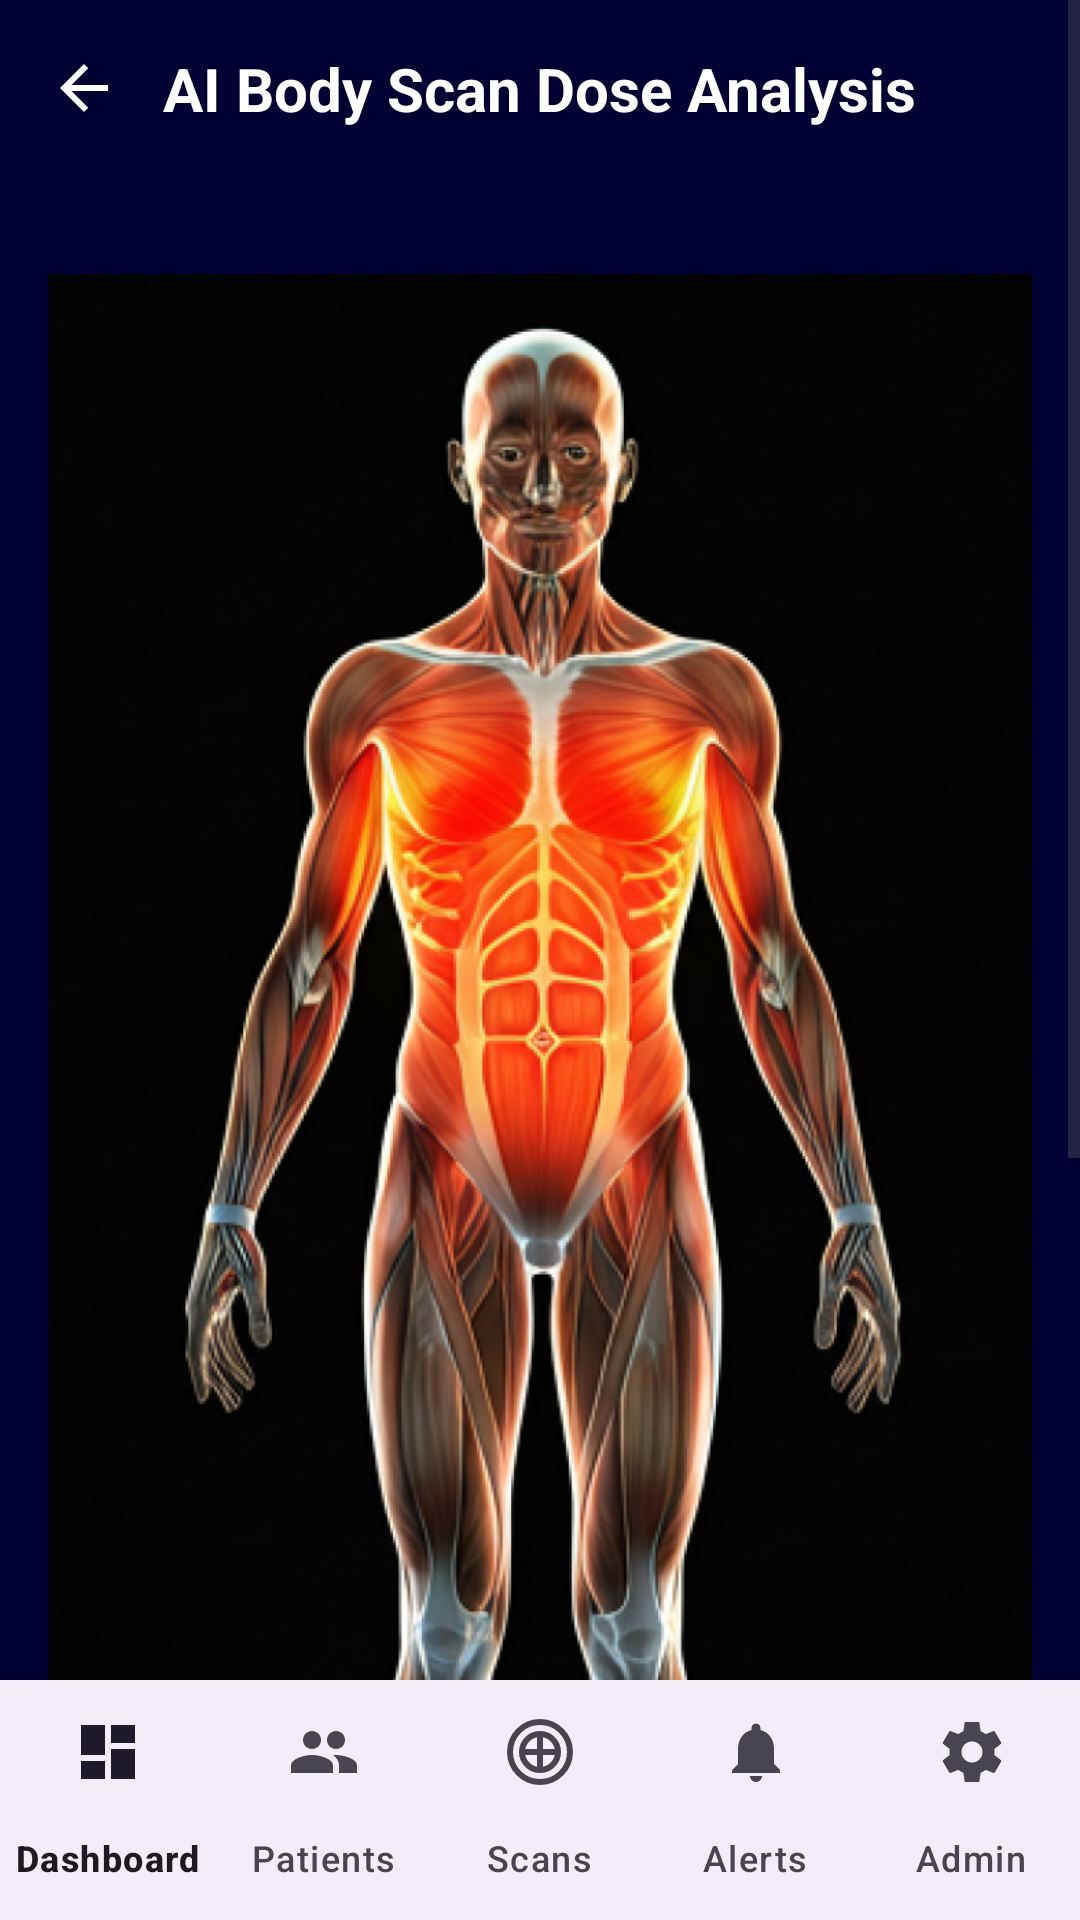

Where icons sit on this 1080 × 1920 app screen, as box=[x1, y1, x2, y2]:
arrow back: box=[60, 64, 108, 112]
